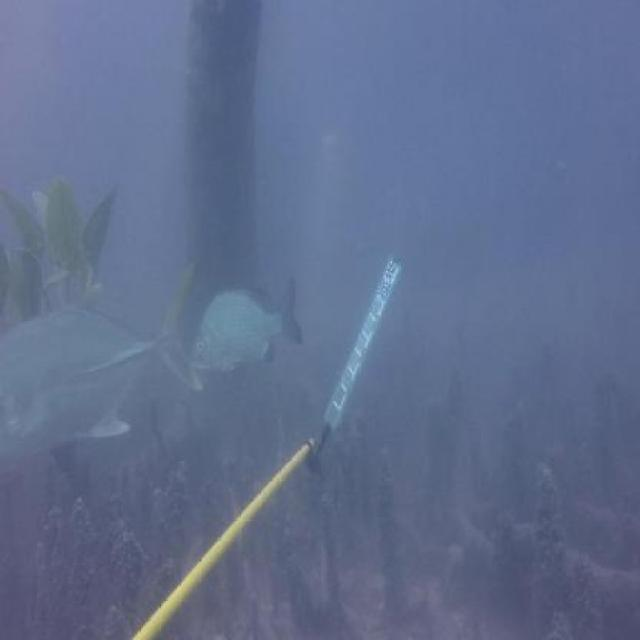Caranx: (1, 255, 204, 463)
acanthopagrus_palmaris: (188, 272, 304, 377)
